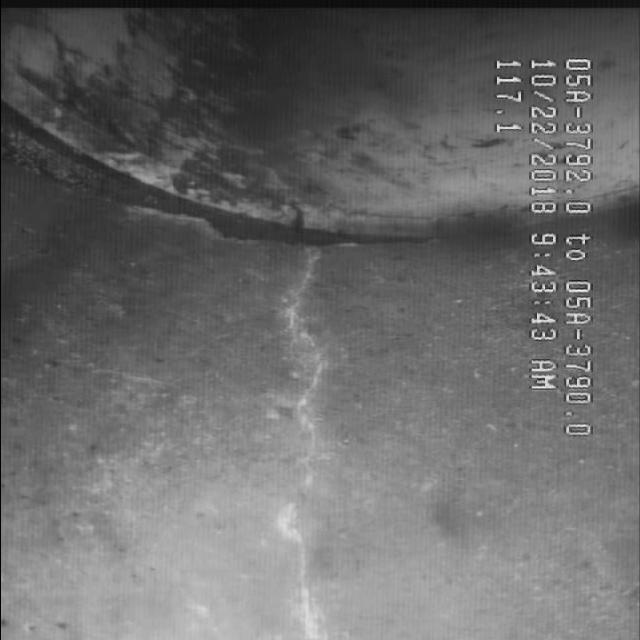Crack: (230, 246, 394, 614)
